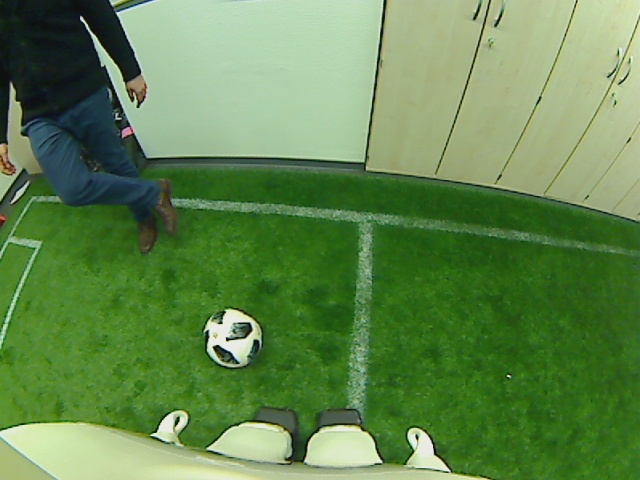ball: (201, 307, 264, 371)
